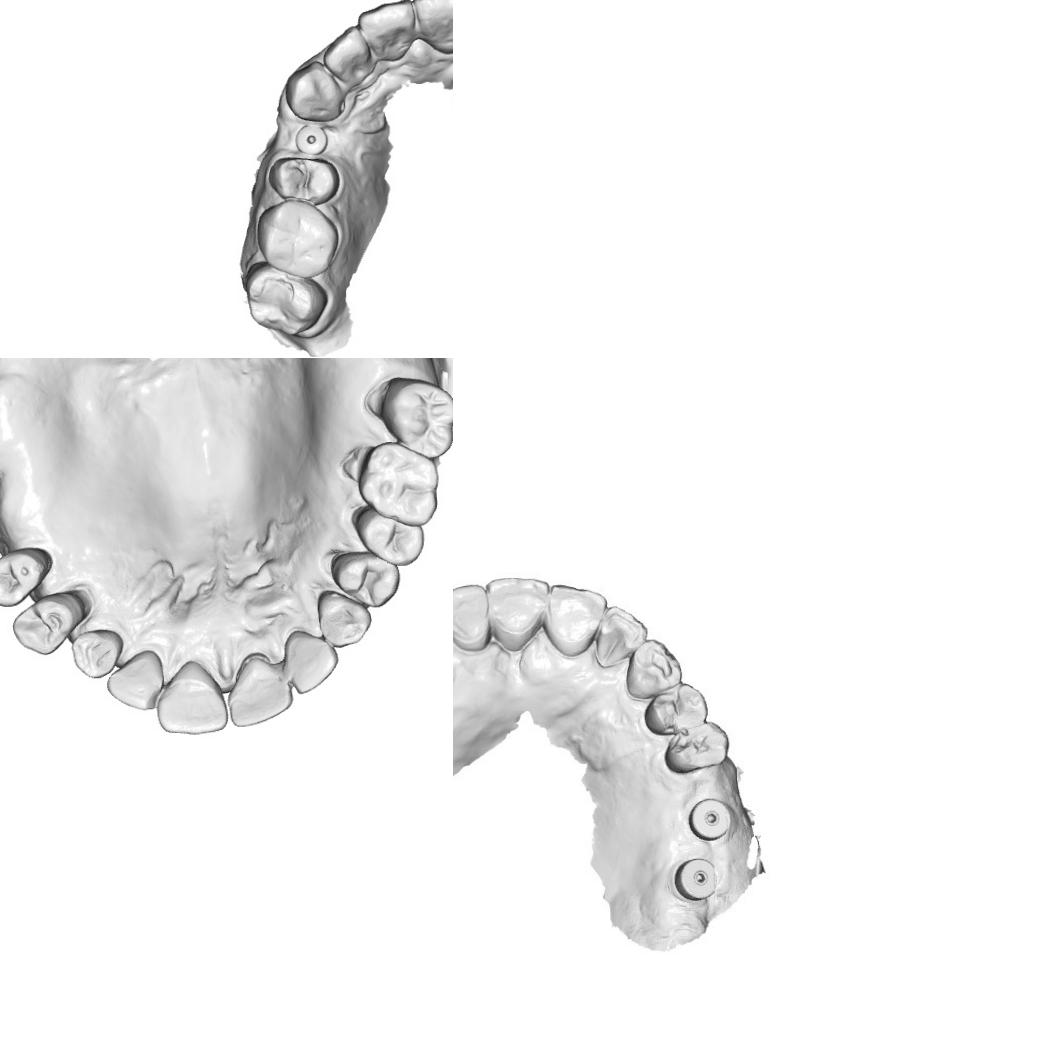canine: (280, 58, 344, 124), (314, 589, 374, 649), (622, 639, 682, 699), (68, 626, 124, 681)
implant: (672, 852, 718, 906), (684, 790, 732, 841), (294, 123, 328, 158)
incisor: (154, 658, 232, 736), (226, 654, 294, 728), (486, 574, 552, 649), (540, 584, 606, 657), (354, 0, 419, 64), (104, 648, 166, 712), (284, 628, 340, 696), (320, 24, 373, 88), (596, 608, 646, 666), (453, 580, 493, 652), (412, 0, 453, 56)
molar: (355, 439, 440, 530), (254, 197, 340, 280), (242, 258, 327, 340), (378, 374, 453, 463)
premolar: (10, 590, 81, 658), (352, 504, 426, 568), (328, 548, 402, 610), (265, 154, 341, 205), (0, 545, 54, 608), (645, 684, 704, 738), (666, 724, 726, 771)
